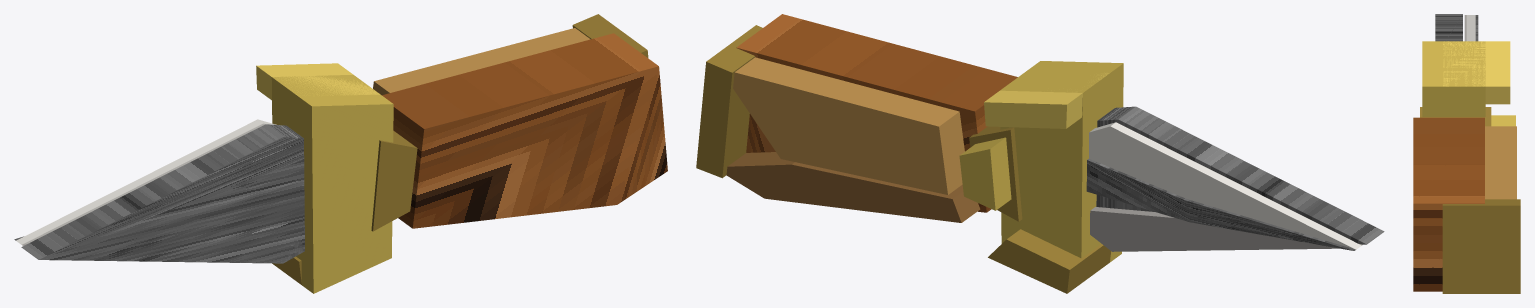
File: FletchingKnife.glb
3 views of the same model, side by side, from view 1: azimuth 30°, elevation 25°; view 2: azimuth 150°, elevation 25°; view 3: azimuth 270°, elevation 25° (orthographic). The views are drawn at different scales.
Parts seen in each view (by area): view 1: FletchingKnife_Combined; view 2: FletchingKnife_Combined; view 3: FletchingKnife_Combined.
Boxes of the visible parts, x1,y1,x2,y2 form: FletchingKnife_Combined: (14,14,667,293); FletchingKnife_Combined: (696,14,1384,293); FletchingKnife_Combined: (1413,14,1520,293).
Size of the model in its own units: 0.701 by 0.202 by 0.132.
9 materials, 2 textured.
